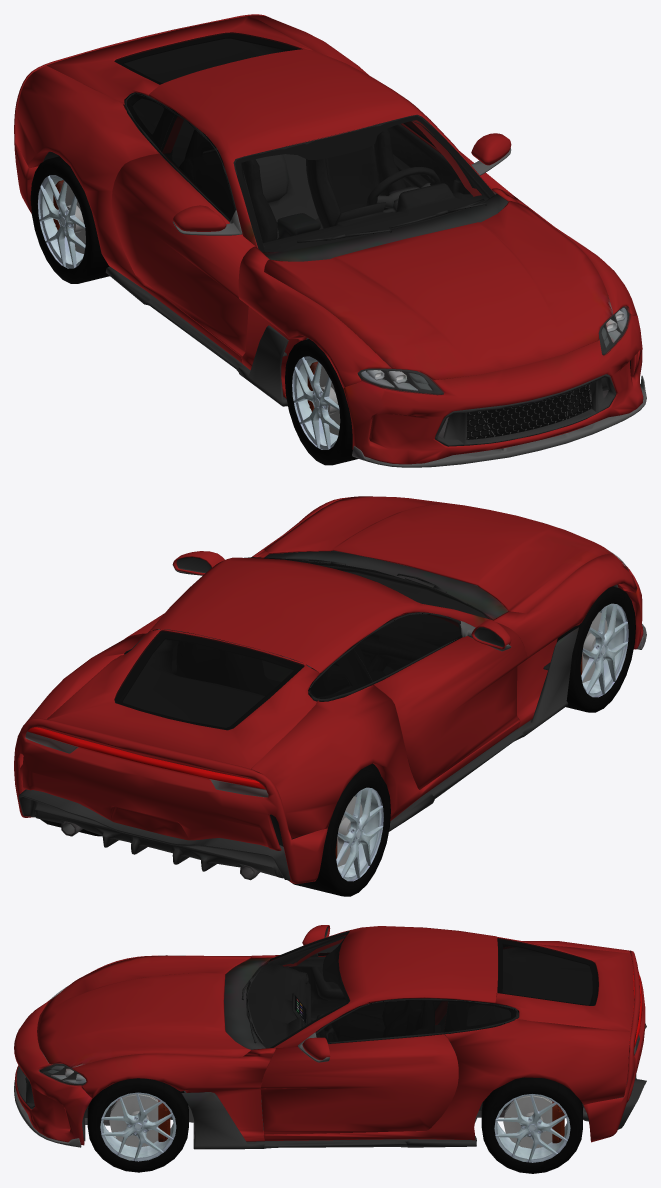
The model's file is sport-coupe-lod2.glb.
3 views of the same model, one above another, from view 1: azimuth 30°, elevation 25°; view 2: azimuth 150°, elevation 25°; view 3: azimuth 270°, elevation 25° (orthographic). The views are drawn at different scales.
Visible parts, largest first — view 1: body, hood, glass-windshield, front-bumper, door.r, side-fender.r, interior-roof-rear-trim, trunk, seat-back-01, glass-rear, dashboard-base, side-fender-aero.r (+22 smaller); view 2: body, rear-bumper, hood, trunk, door.r, glass-rear, side-fender.r, rear-diffusor-v2, interior-roof-rear-trim, dashboard-base, window-front.r, side-fender-aero.r (+14 smaller); view 3: body, hood, door.l, side-fender.l, glass-windshield, trunk, glass-rear, interior-roof-rear-trim, front-bumper, side-fender-aero.l, dashboard-base, window-front.l (+20 smaller).
Boxes of the visible parts, x1,y1,x2,y2 form: body: (15, 15, 494, 363); hood: (264, 201, 613, 380); glass-windshield: (235, 116, 494, 252); front-bumper: (343, 314, 643, 464); door.r: (111, 153, 255, 357); side-fender.r: (238, 246, 391, 398); interior-roof-rear-trim: (125, 39, 490, 240); trunk: (47, 15, 312, 105); seat-back-01: (306, 129, 406, 228); glass-rear: (114, 32, 302, 84); dashboard-base: (263, 183, 488, 252); side-fender-aero.r: (105, 266, 288, 406); body: (19, 557, 520, 838); rear-bumper: (14, 718, 327, 883); hood: (263, 496, 612, 613); trunk: (46, 628, 319, 769); door.r: (373, 622, 527, 789); glass-rear: (114, 630, 304, 730); side-fender.r: (492, 553, 637, 728); rear-diffusor-v2: (18, 789, 290, 880); interior-roof-rear-trim: (123, 629, 351, 727); dashboard-base: (345, 571, 487, 671); window-front.r: (352, 612, 461, 681); side-fender-aero.r: (389, 627, 578, 831); body: (116, 926, 630, 1140); hood: (37, 955, 250, 1068); door.l: (260, 1034, 458, 1135); side-fender.l: (72, 1048, 275, 1141); glass-windshield: (246, 932, 348, 1048); trunk: (495, 937, 634, 1031); glass-rear: (497, 937, 598, 1005); interior-roof-rear-trim: (268, 936, 591, 1052); front-bumper: (14, 1000, 92, 1145); side-fender-aero.l: (181, 1092, 476, 1149); dashboard-base: (246, 964, 311, 1048); window-front.l: (316, 998, 448, 1042).
Bounding box in the file's own units: 2.18 × 1.29 × 4.52.
19 materials, 7 textured.
